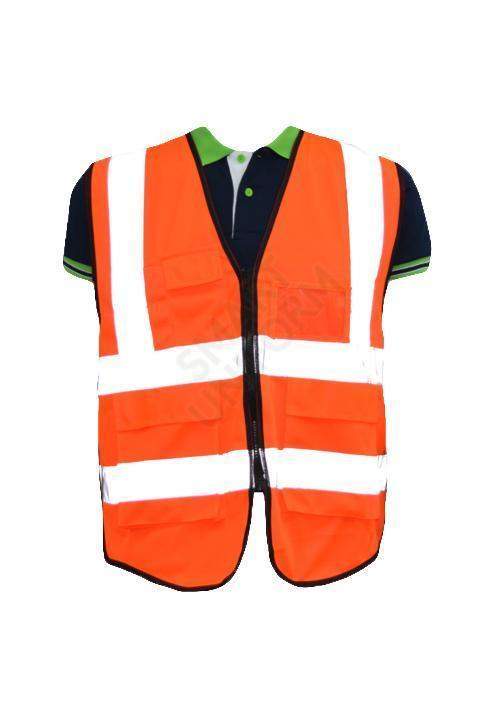Glass: (82, 114, 413, 590)
